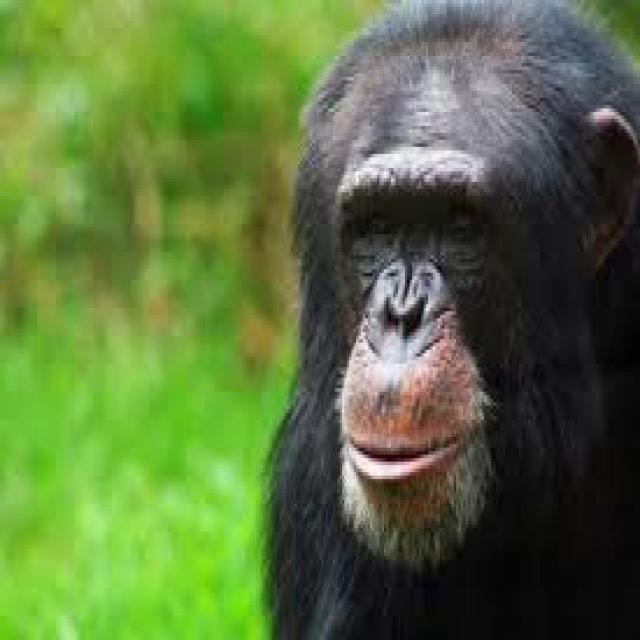chimpanzee: (265, 0, 638, 637)
